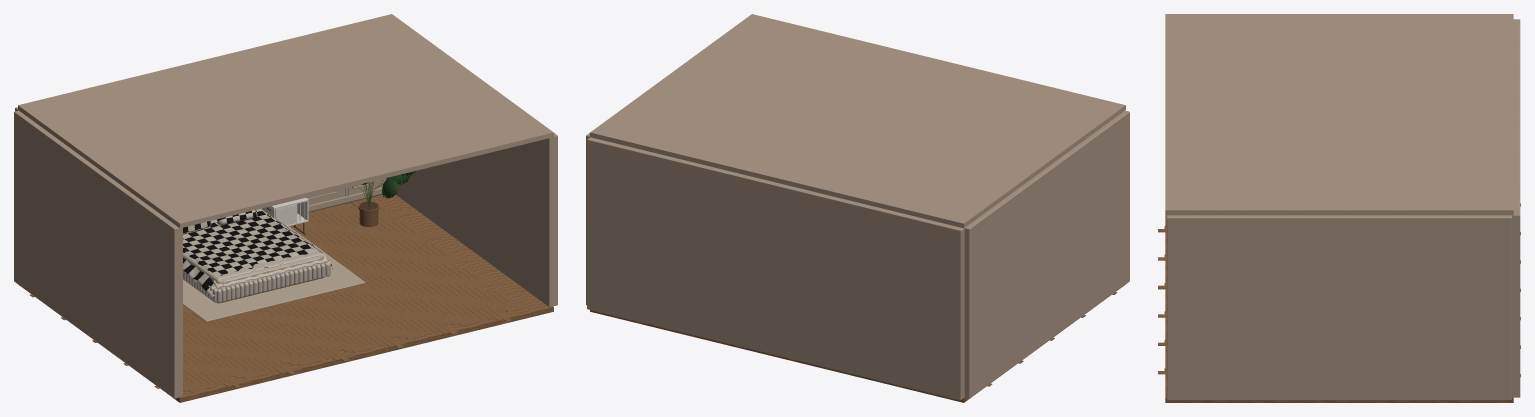
The model's file is 03_bedroom_material.glb.
3 renders of one model, left to right at view 1: azimuth 30°, elevation 25°; view 2: azimuth 150°, elevation 25°; view 3: azimuth 270°, elevation 25°, orthographic. The views are drawn at different scales.
Visible parts, largest first — view 1: Plain ceiling inferred unseen, Left room return inferred, Right room return inferred, Floor substrate, Checker duvet with irregular soft drape, Large low pile bedside rug, Mattress ivory side band, Rear wall verified visible face, Rear skirting; view 2: Rear wall verified visible face, Plain ceiling inferred unseen, Left room return inferred, Floor substrate; view 3: Plain ceiling inferred unseen, Right room return inferred, Rear wall verified visible face, Floor substrate.
Boxes of the visible parts, x1=… form: Plain ceiling inferred unseen: x1=18, y1=14, x2=553, y2=228; Left room return inferred: x1=14, y1=110, x2=182, y2=398; Right room return inferred: x1=396, y1=133, x2=557, y2=307; Floor substrate: x1=19, y1=195, x2=553, y2=402; Checker duvet with irregular soft drape: x1=183, y1=211, x2=331, y2=293; Large low pile bedside rug: x1=183, y1=226, x2=365, y2=321; Mattress ivory side band: x1=183, y1=208, x2=323, y2=283; Rear wall verified visible face: x1=15, y1=107, x2=386, y2=204; Rear skirting: x1=308, y1=187, x2=382, y2=211; Rear wall verified visible face: x1=587, y1=137, x2=964, y2=400; Plain ceiling inferred unseen: x1=590, y1=14, x2=1125, y2=228; Left room return inferred: x1=964, y1=110, x2=1129, y2=398; Floor substrate: x1=590, y1=285, x2=1124, y2=402; Plain ceiling inferred unseen: x1=1165, y1=14, x2=1513, y2=215; Right room return inferred: x1=1167, y1=215, x2=1511, y2=400; Rear wall verified visible face: x1=1512, y1=19, x2=1520, y2=397; Floor substrate: x1=1165, y1=215, x2=1513, y2=402.
Bounding box in the file's own units: 7.84 × 3.48 × 5.94.
19 materials, 10 textured.
